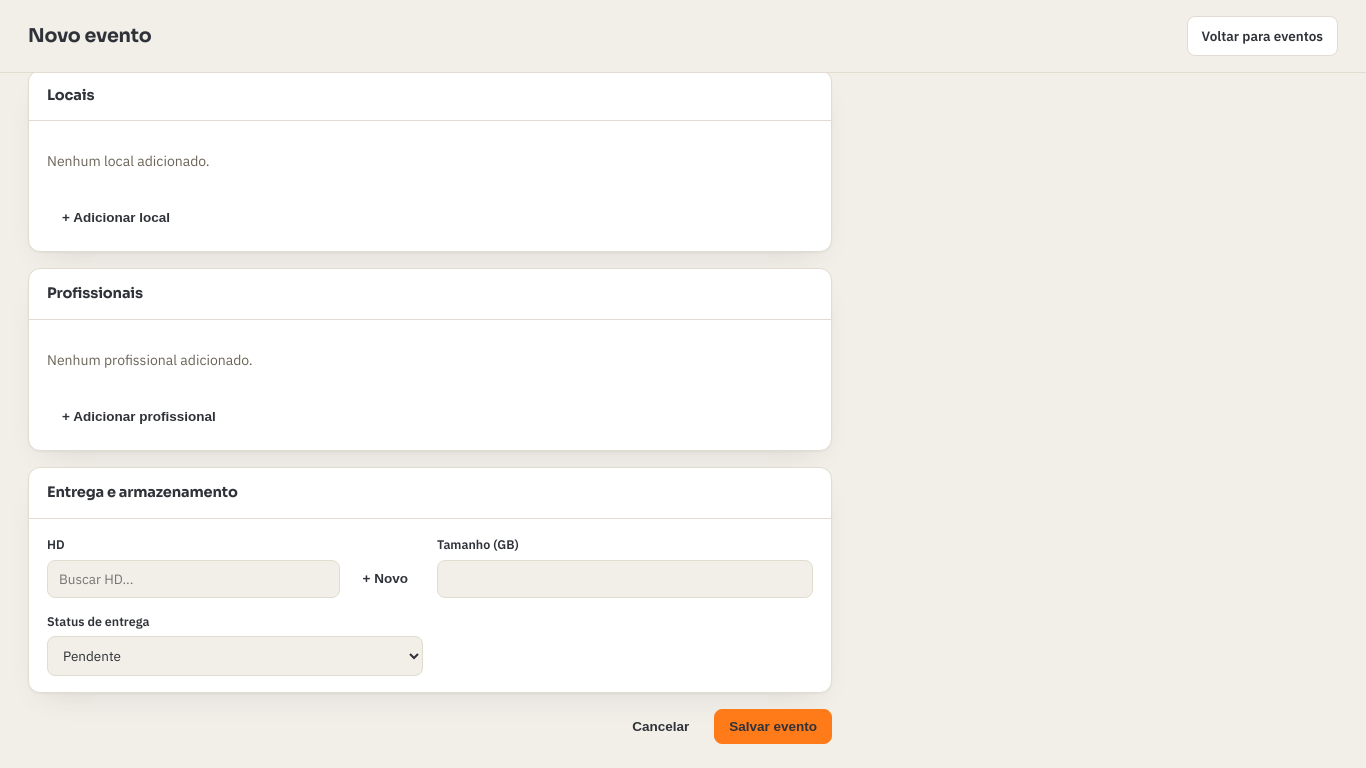
Scenario: EventFormPage › mostra erros inline e não submete quando campos obrigatórios estão vazios
The width and height of the screenshot is (1366, 768).
(page scrolled)
Click the button "Salvar evento": {"x": 773, "y": 727} top-left (714, 709), bottom-right (832, 744)
(page scrolled)
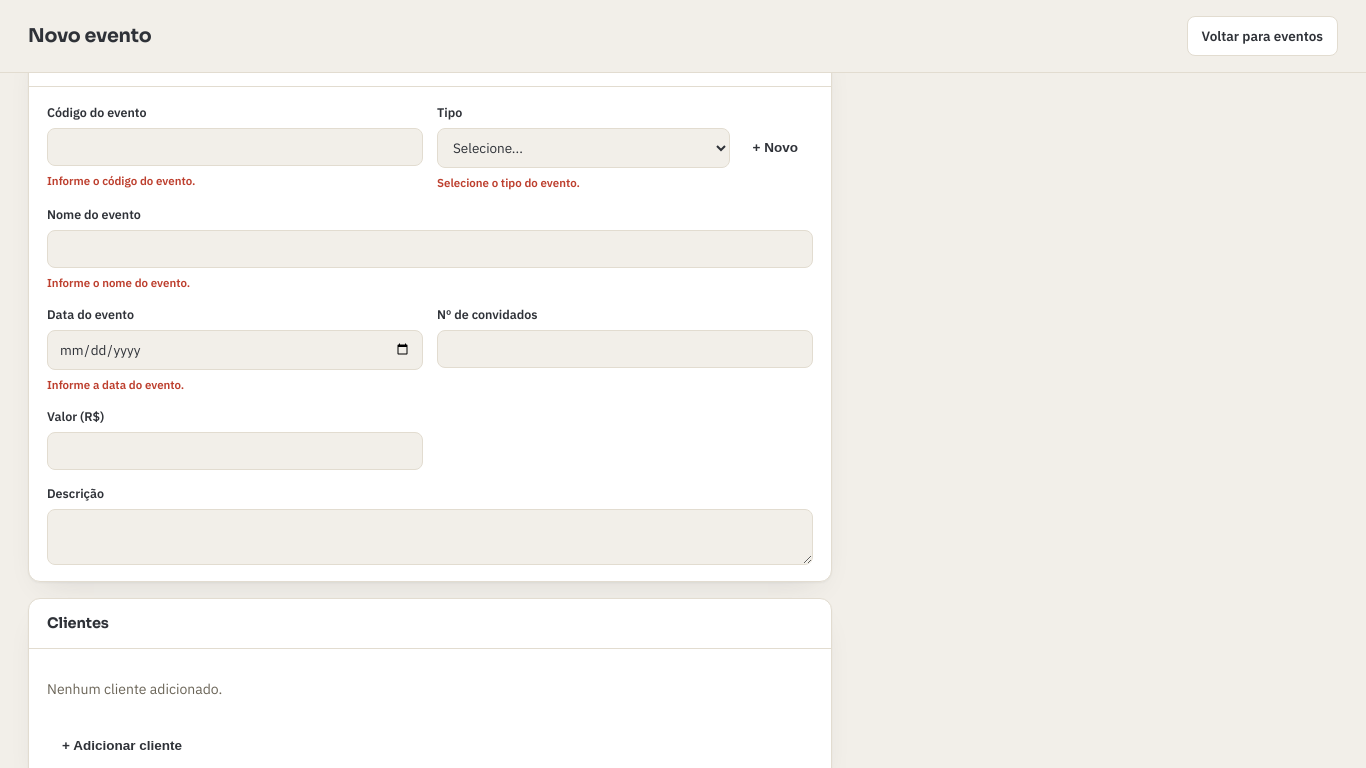
Result: the text "Informe o código do evento." is shown at top-left (47, 173), bottom-right (195, 188)
Result: the text "Selecione o tipo do evento." is shown at top-left (437, 175), bottom-right (580, 190)
Result: the text "Informe o nome do evento." is shown at top-left (47, 275), bottom-right (190, 290)
